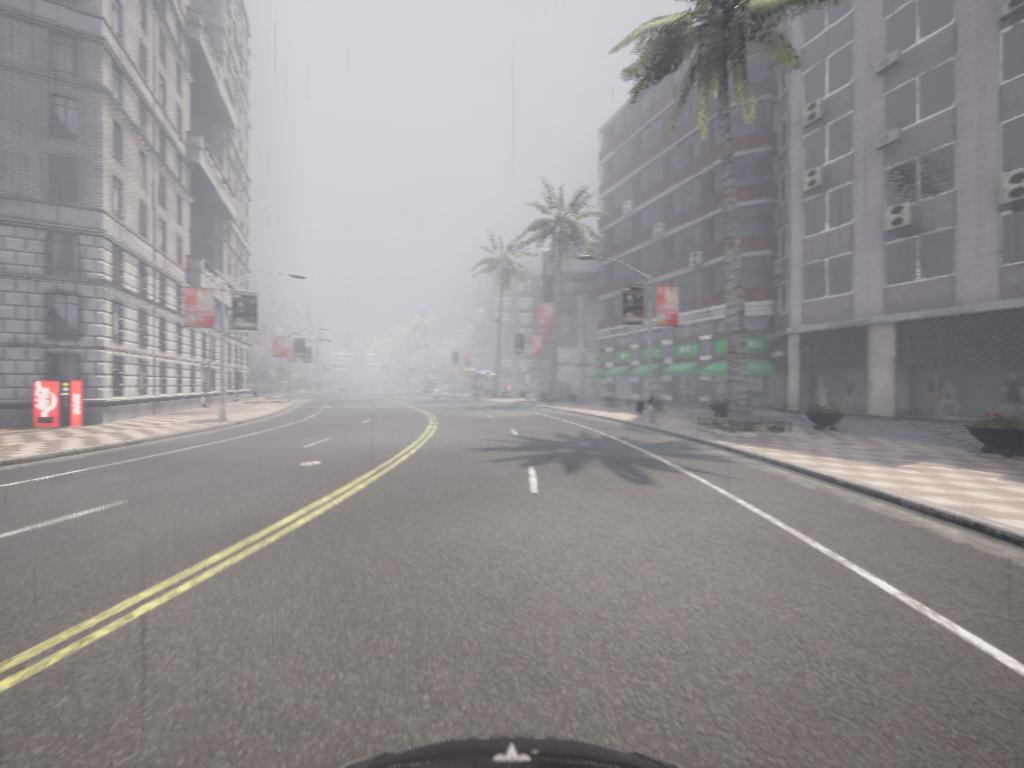traffic_light: (516, 334, 527, 357), (454, 353, 461, 368)
